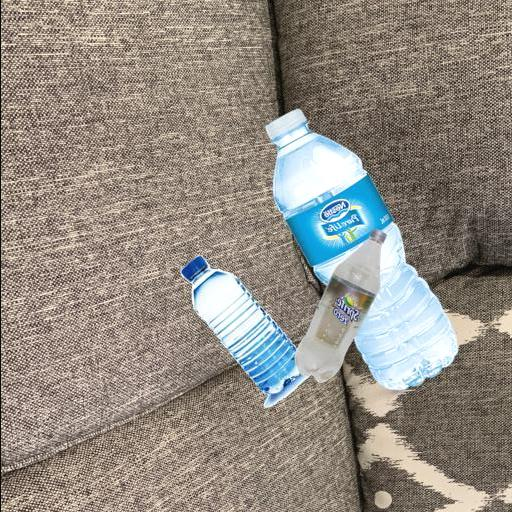bottle: (266, 90, 456, 407), (173, 238, 307, 410), (300, 224, 389, 382)
